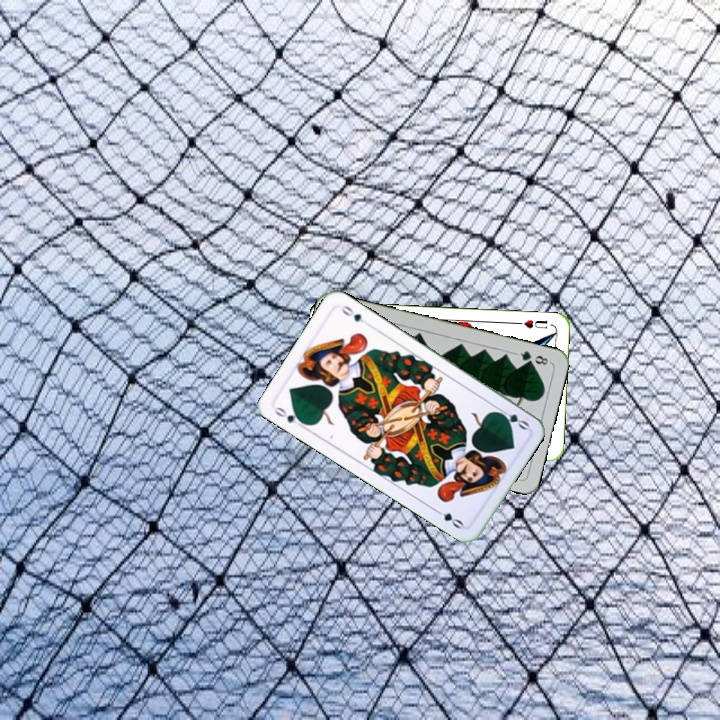G8: (513, 347, 553, 367)
GO: (492, 404, 532, 433), (270, 403, 308, 431)
HU: (513, 316, 550, 331)
